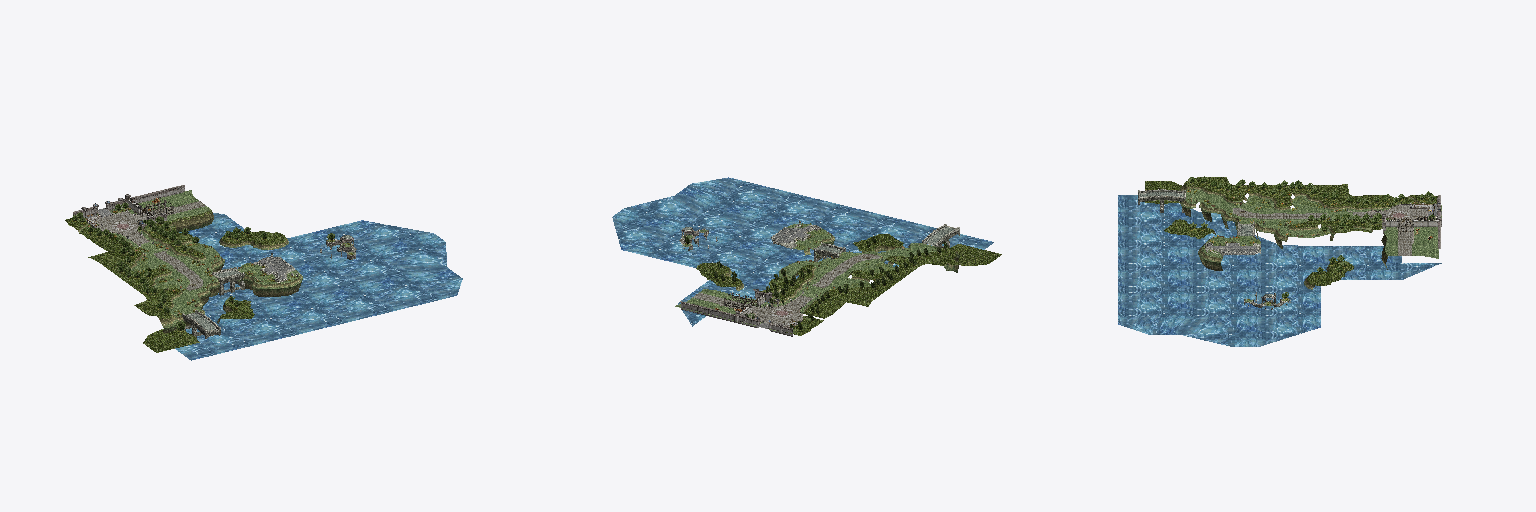
3 renders of one model, left to right at view 1: azimuth 30°, elevation 25°; view 2: azimuth 150°, elevation 25°; view 3: azimuth 270°, elevation 25°, orthographic.
Parts seen in each view (by area): view 1: Object.166, Object.173, Object.180, Object.170, Object.182, Object.184, Object.174, Object.176, Object.177, Object.167, Object.183, Object.157 (+6 smaller); view 2: Object.173, Object.166, Object.170, Object.184, Object.177, Object.174, Object.167, Object.157, Object.180, Object.176, Object.183, Object.168 (+4 smaller); view 3: Object.166, Object.173, Object.182, Object.180, Object.170, Object.184, Object.174, Object.176, Object.177, Object.160, Object.168, Object.157 (+11 smaller).
Boxes of the visible parts, <box> form: Object.166: <box>322,233,410,278</box>; Object.173: <box>381,271,461,308</box>; Object.180: <box>208,314,295,343</box>; Object.170: <box>361,257,445,293</box>; Object.182: <box>175,326,259,360</box>; Object.184: <box>397,240,446,270</box>; Object.174: <box>326,288,400,317</box>; Object.176: <box>292,297,365,326</box>; Object.177: <box>257,306,330,334</box>; Object.167: <box>286,250,360,279</box>; Object.183: <box>376,229,442,255</box>; Object.157: <box>301,220,367,249</box>; Object.173: <box>693,182,782,211</box>; Object.166: <box>635,212,741,249</box>; Object.170: <box>675,195,762,226</box>; Object.184: <box>622,196,707,217</box>; Object.177: <box>835,208,888,245</box>; Object.174: <box>764,191,818,228</box>; Object.167: <box>704,221,757,258</box>; Object.157: <box>621,242,702,264</box>; Object.180: <box>869,217,931,251</box>; Object.176: <box>799,199,853,229</box>; Object.183: <box>612,210,686,232</box>; Object.168: <box>739,229,793,266</box>; Object.166: <box>1199,297,1279,331</box>; Object.173: <box>1118,297,1198,334</box>; Object.182: <box>1118,195,1197,228</box>; Object.180: <box>1118,212,1183,245</box>; Object.170: <box>1159,297,1238,334</box>; Object.184: <box>1183,315,1239,346</box>; Object.174: <box>1118,280,1198,296</box>; Object.176: <box>1118,263,1197,279</box>; Object.177: <box>1118,246,1197,262</box>; Object.160: <box>1361,263,1441,279</box>; Object.168: <box>1201,263,1279,279</box>; Object.157: <box>1280,297,1320,328</box>.
Bounding box in the file's own units: 206 × 20.98 × 173.
28 materials, 28 textured.